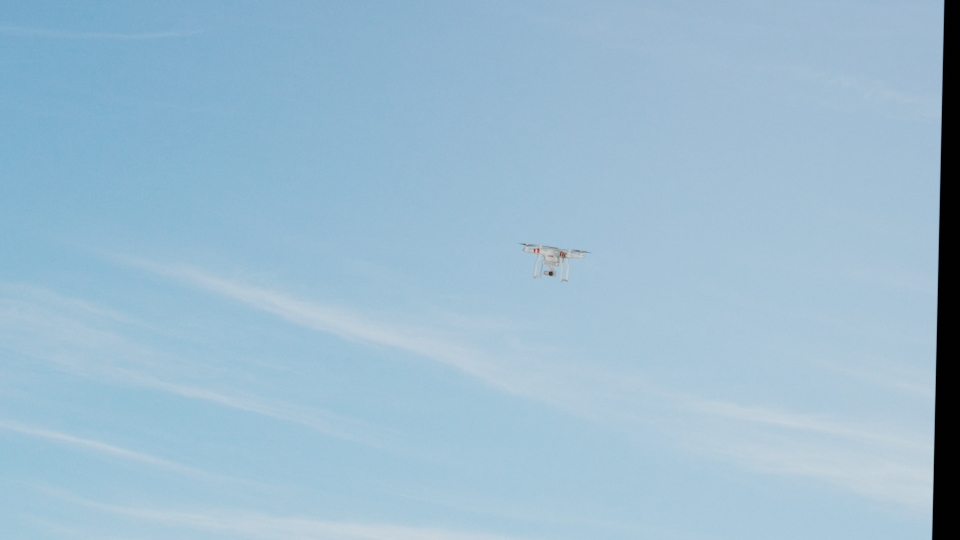drone: (515, 240, 591, 280)
